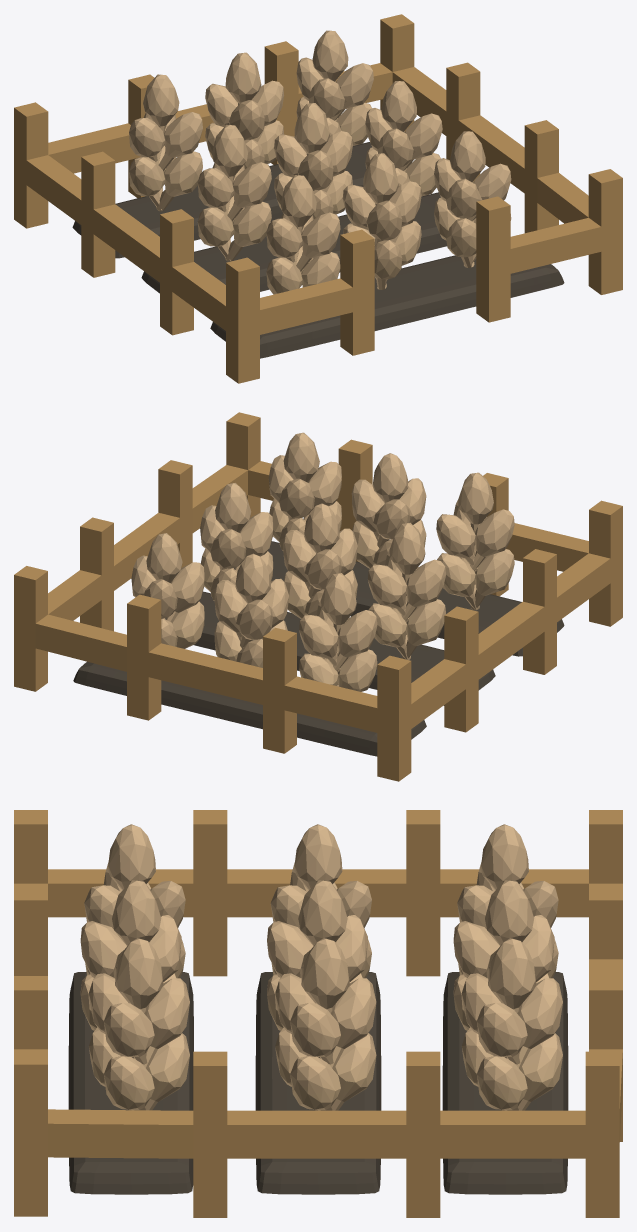
Rendered from allflower.glb.
3 views of the same model, one above another, from view 1: azimuth 30°, elevation 25°; view 2: azimuth 150°, elevation 25°; view 3: azimuth 270°, elevation 25° (orthographic). The views are drawn at different scales.
Parts seen in each view (by area): view 1: Cube.087_Material.001_0; view 2: Cube.087_Material.001_0; view 3: Cube.087_Material.001_0.
Part boxes in pixels (x1=…): Cube.087_Material.001_0: x1=14, y1=14, x2=622, y2=383; Cube.087_Material.001_0: x1=14, y1=412, x2=622, y2=781; Cube.087_Material.001_0: x1=14, y1=810, x2=622, y2=1217.
Bounding box in the file's own units: 0.8862 × 0.3344 × 0.891.
Materials: 1 (1 with a texture image).
